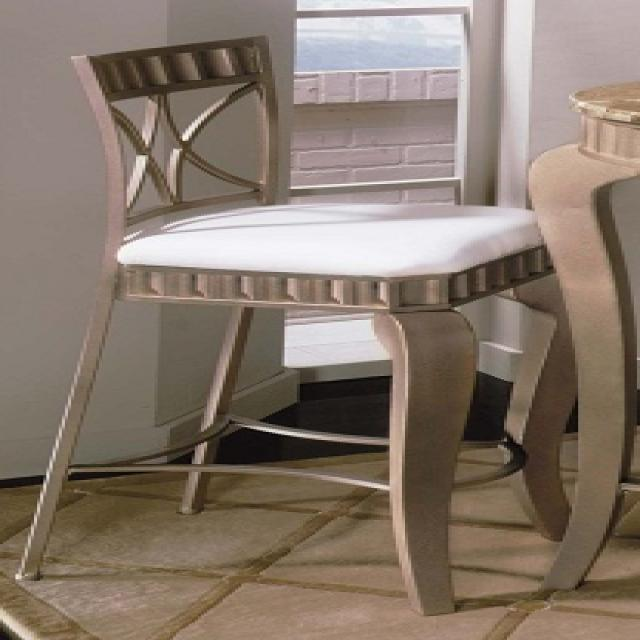chair: (15, 33, 572, 614)
